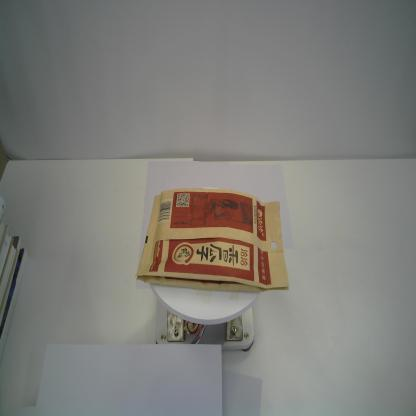Dried Food: (135, 188, 289, 292)
